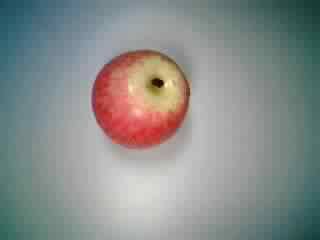apple: (87, 50, 192, 152)
